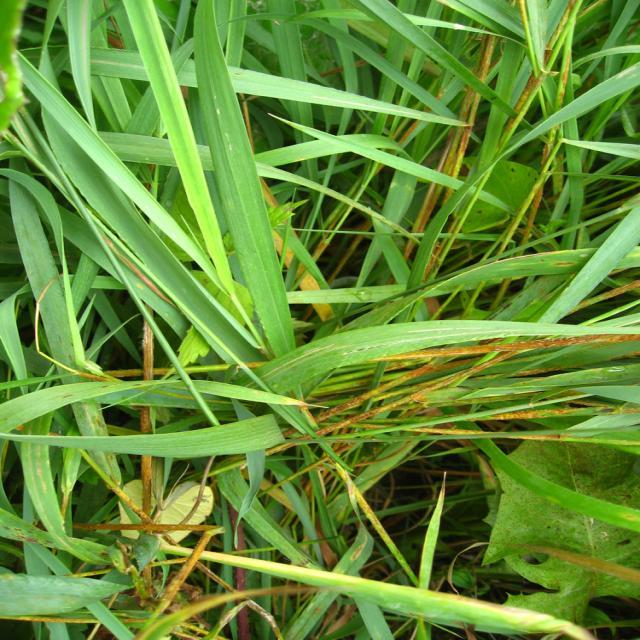wheat-stemrust: (485, 333, 640, 352), (397, 340, 503, 367)
